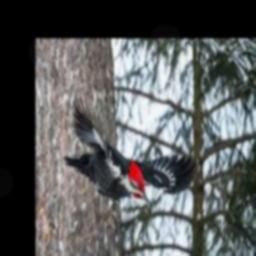Woodpecker: (65, 96, 200, 206)
